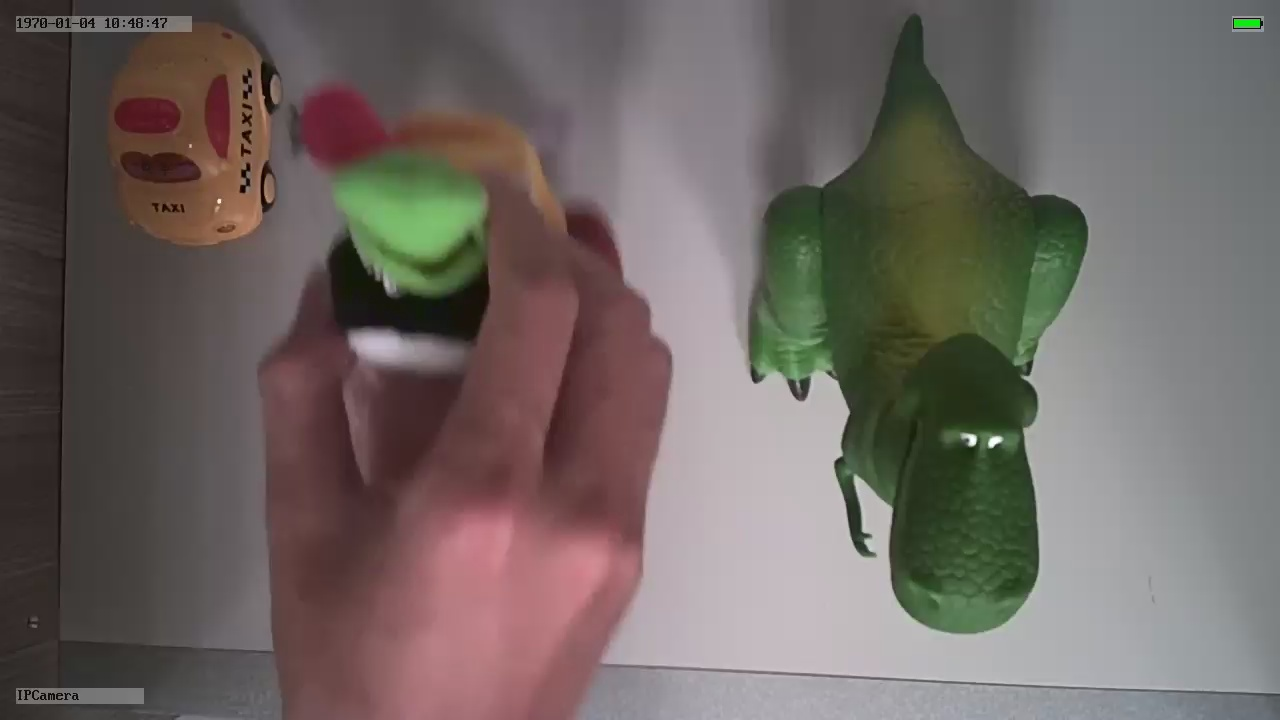rex: (748, 92, 1088, 639)
